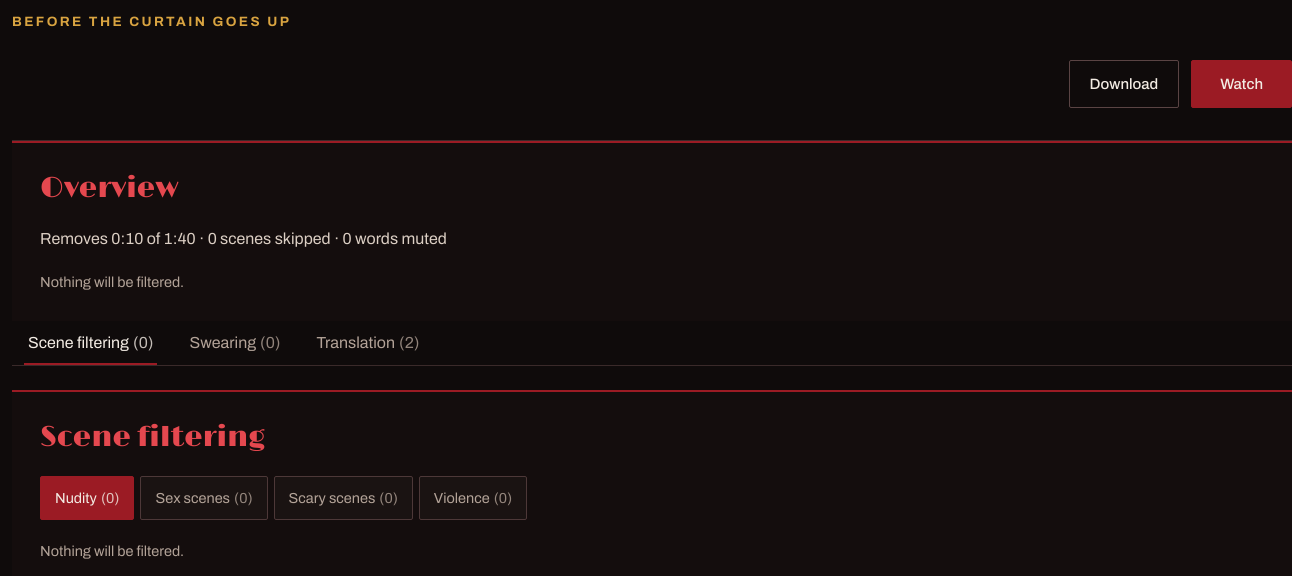
Scenario: ReviewPage swearing › says swearing was not checked when it was not chosen, instead of showing an empty list
Click the tab "Swearing (0)": (235, 343) x1=174 y1=321 x2=296 y2=365
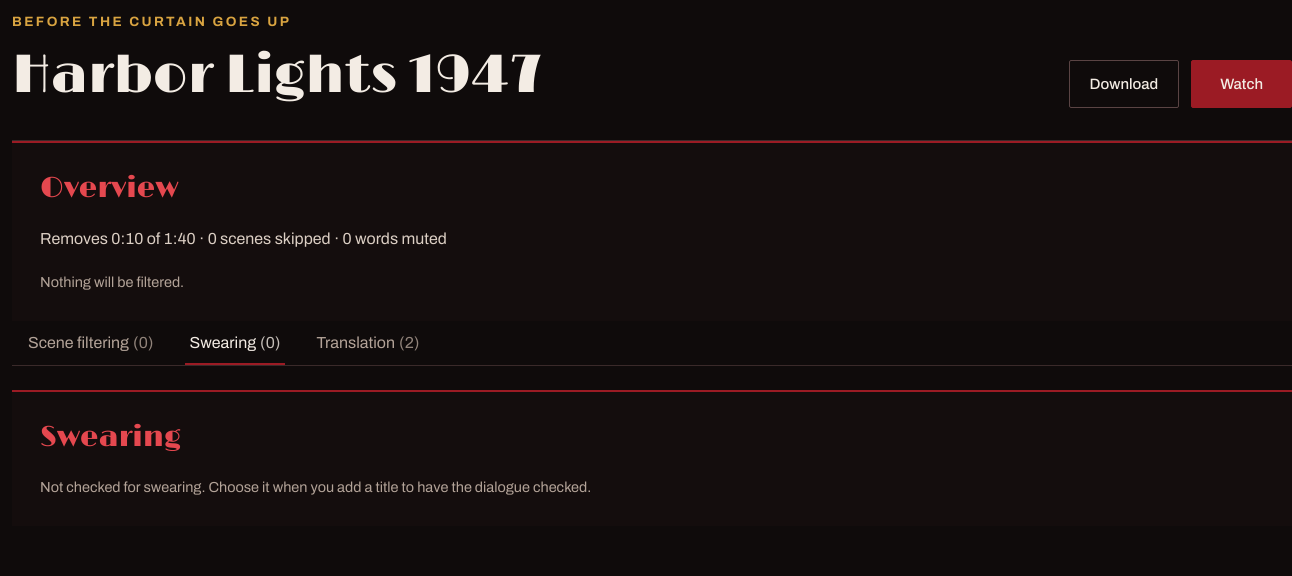
Check: the text "Not checked for swearing" is shown, box x1=40 y1=479 x2=591 y2=495
